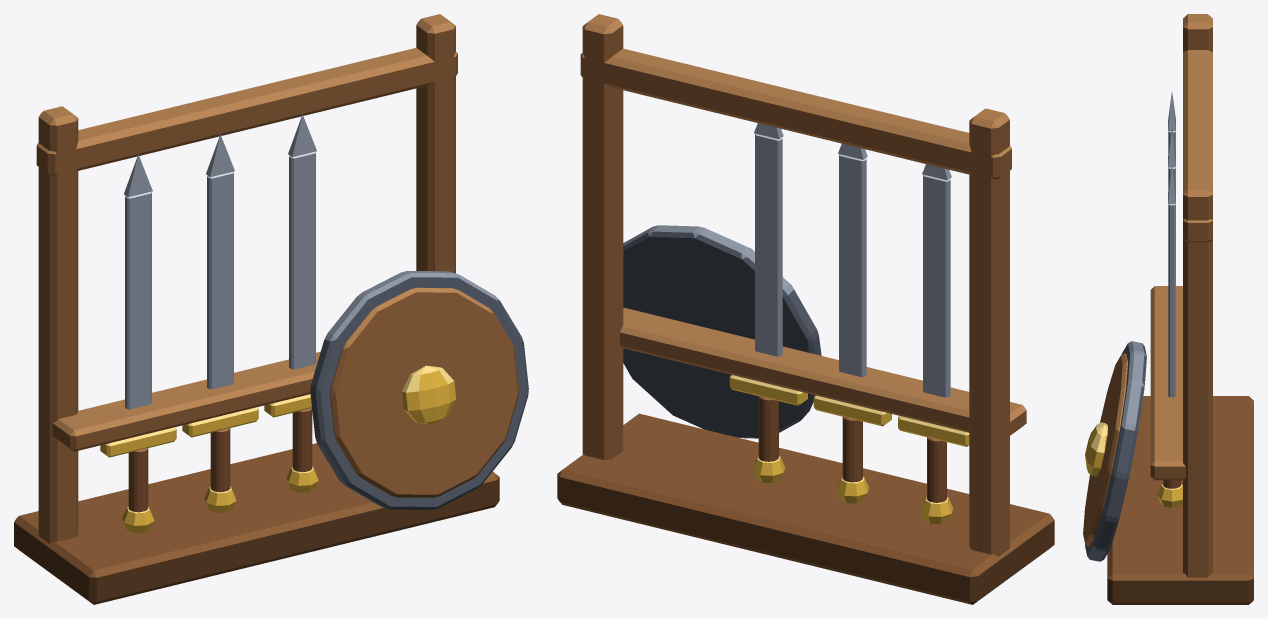
File: suporte_armas.fbx
The picture shows the model from 3 angles, left to right: view 1: azimuth 30°, elevation 25°; view 2: azimuth 150°, elevation 25°; view 3: azimuth 270°, elevation 25°; orthographic projection. The views are drawn at different scales.
Visible parts, largest first — view 1: suporte_armas; view 2: suporte_armas; view 3: suporte_armas.
Boxes of the visible parts, left/top/right/bottom form: suporte_armas: left=14, top=14, right=528, bottom=604; suporte_armas: left=557, top=14, right=1054, bottom=604; suporte_armas: left=1083, top=14, right=1253, bottom=604.
Size of the model in its own units: 106 by 106 by 39.66.
